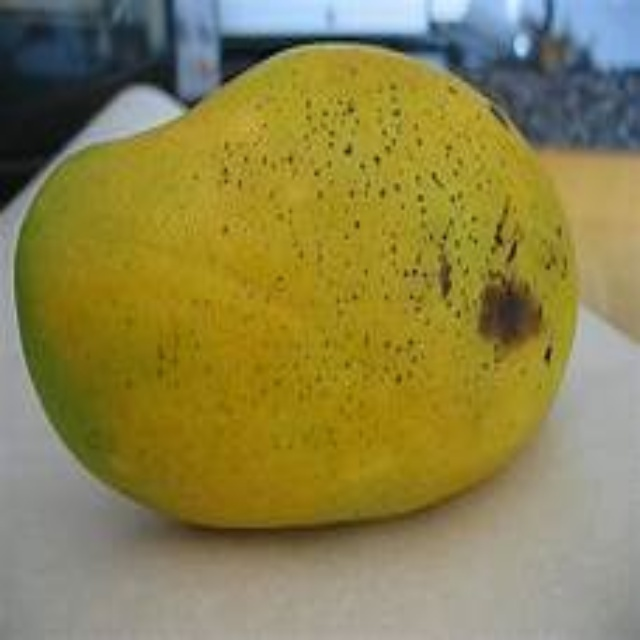mango: (18, 43, 594, 536)
